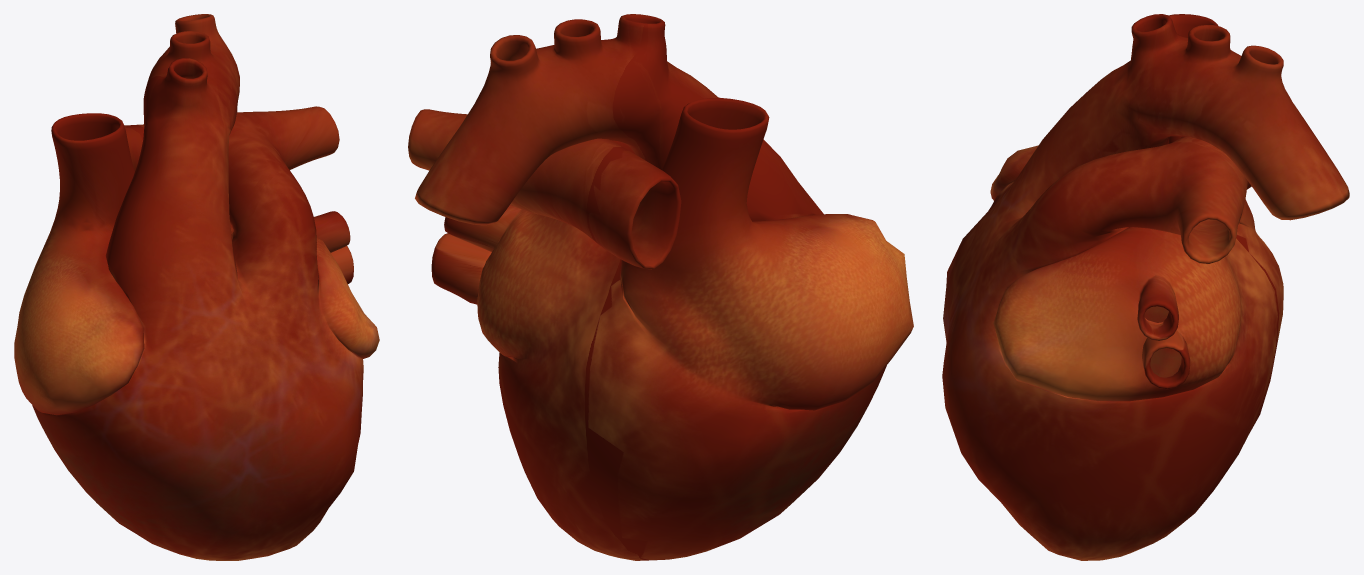
File: asset.gltf
The picture shows the model from 3 angles, left to right: view 1: azimuth 30°, elevation 25°; view 2: azimuth 150°, elevation 25°; view 3: azimuth 270°, elevation 25°; orthographic projection. The views are drawn at different scales.
Bounding box in the file's own units: 12.42 × 16.28 × 11.5.
1 material, 1 textured.
